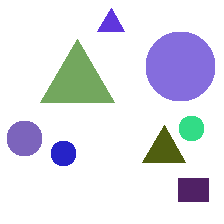circle: (146, 32, 214, 100), (7, 121, 41, 155), (179, 116, 203, 140), (51, 141, 75, 165)
rectangle: (178, 178, 208, 201)
triangle: (40, 39, 114, 102), (142, 125, 185, 162), (97, 8, 124, 31)
